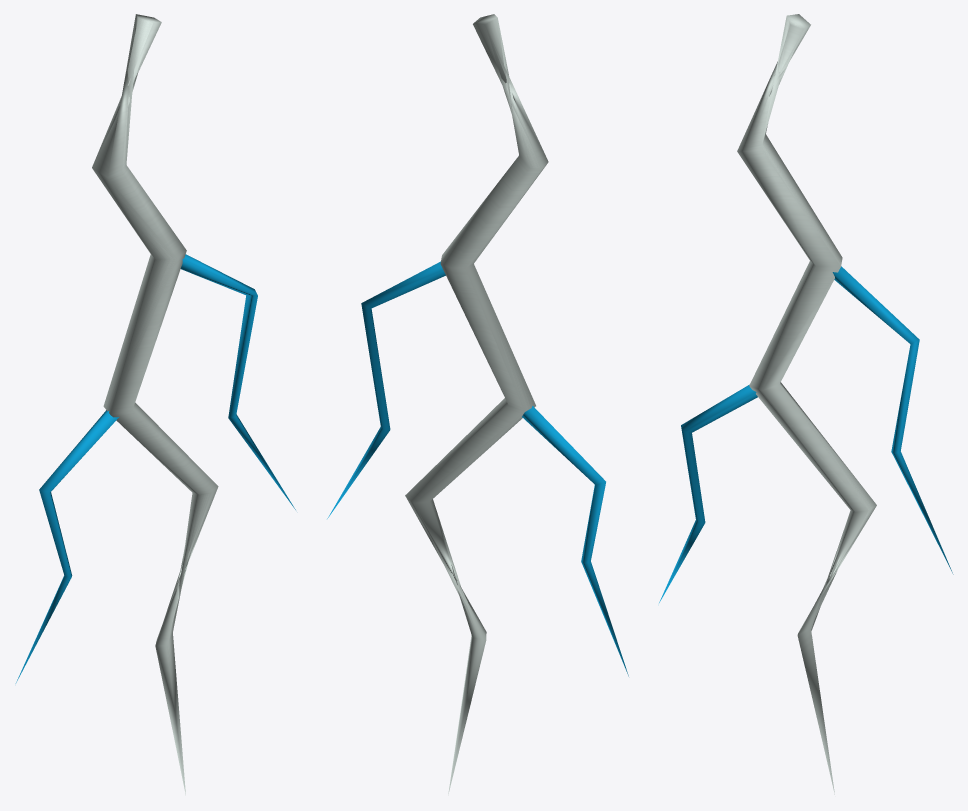
File: SM_thunderstorm_bolt_LOD1.fbx
The picture shows the model from 3 angles, left to right: view 1: azimuth 30°, elevation 25°; view 2: azimuth 150°, elevation 25°; view 3: azimuth 330°, elevation 25°; orthographic projection. The views are drawn at different scales.
Visible parts, largest first — view 1: SM_thunderstorm_bolt_LOD1; view 2: SM_thunderstorm_bolt_LOD1; view 3: SM_thunderstorm_bolt_LOD1.
Part boxes in pixels (x1,y1,x2,y2): SM_thunderstorm_bolt_LOD1: [15, 14, 295, 795]; SM_thunderstorm_bolt_LOD1: [327, 14, 628, 795]; SM_thunderstorm_bolt_LOD1: [659, 14, 953, 794].
Size of the model in its own units: 0.3901 by 0.0604 by 1.01.
